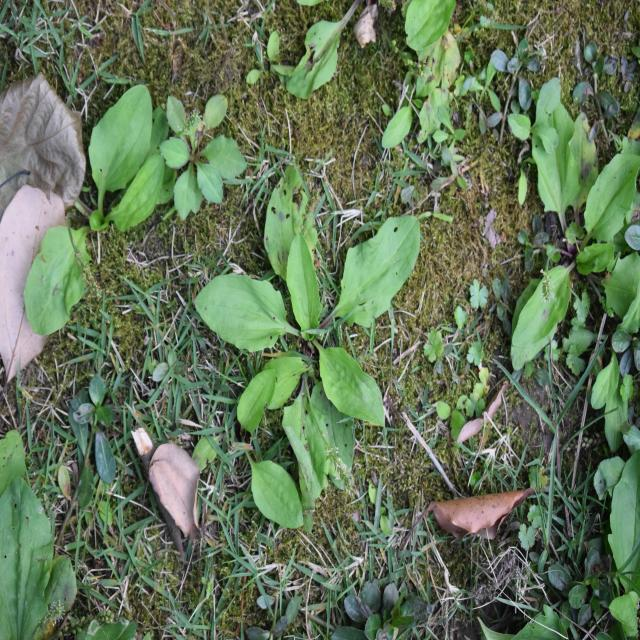plantain: (220, 202, 426, 458)
